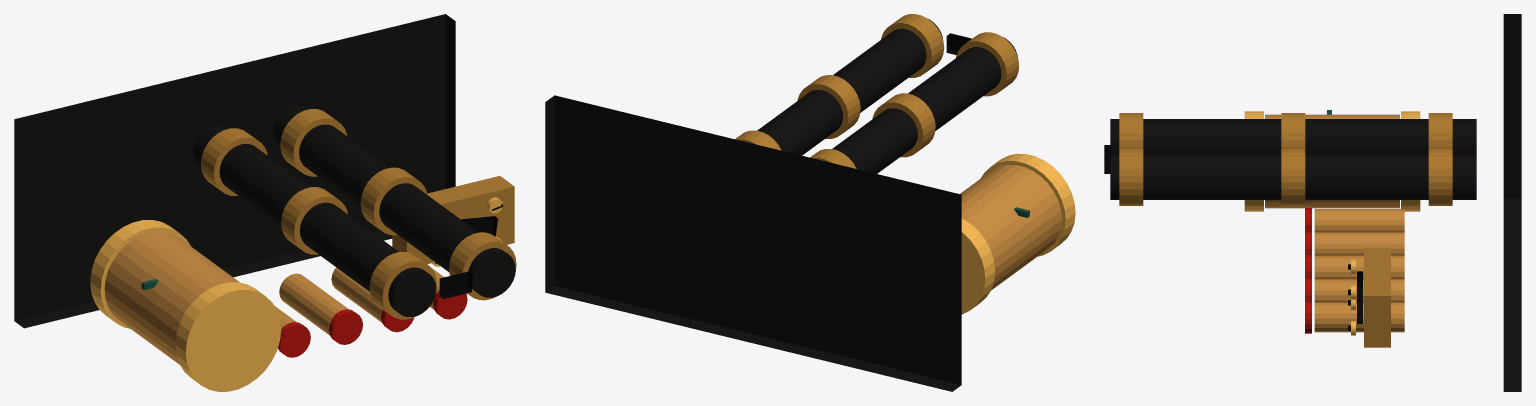
Rendered from WPB_007_ScattergunDisplayPieces_Staged.obj.
The picture shows the model from 3 angles, left to right: view 1: azimuth 30°, elevation 25°; view 2: azimuth 150°, elevation 25°; view 3: azimuth 270°, elevation 25°; orthographic projection. The views are drawn at different scales.
Visible parts, largest first — view 1: scatter_display_backer_plate, scatter_left_blackened_barrel, scatter_right_blackened_barrel, scatter_slug_canister_body, scatter_slug_canister_endcap_b, scatter_stock_socket_plate, scatter_slug_canister_endcap_a, scatter_shell_row_case_2, scatter_twin_barrel_brass_collar_0p635_l, scatter_twin_barrel_brass_collar_0p365_r, scatter_twin_barrel_brass_collar_0p120_r, scatter_twin_barrel_brass_collar_0p365_l (+8 smaller); view 2: scatter_display_backer_plate, scatter_slug_canister_body, scatter_right_blackened_barrel, scatter_left_blackened_barrel, scatter_slug_canister_endcap_a, scatter_slug_canister_endcap_b, scatter_twin_barrel_brass_collar_0p365_l, scatter_twin_barrel_brass_collar_0p635_l, scatter_twin_barrel_brass_collar_0p365_r, scatter_twin_barrel_brass_collar_0p635_r, scatter_twin_barrel_brass_collar_0p120_r, scatter_twin_barrel_brass_collar_0p120_l; view 3: scatter_right_blackened_barrel, scatter_left_blackened_barrel, scatter_display_backer_plate, scatter_stock_socket_plate, scatter_shell_row_case_0, scatter_shell_row_case_1, scatter_shell_row_case_4, scatter_slug_canister_body, scatter_shell_row_case_2, scatter_twin_barrel_brass_collar_0p120_r, scatter_twin_barrel_brass_collar_0p365_r, scatter_twin_barrel_brass_collar_0p635_r (+6 smaller).
Boxes of the visible parts, box(x1,y1,x2,y2) form: scatter_display_backer_plate: box(14, 14, 455, 328); scatter_left_blackened_barrel: box(193, 124, 436, 316); scatter_right_blackened_barrel: box(273, 105, 515, 297); scatter_slug_canister_body: box(104, 231, 239, 364); scatter_slug_canister_endcap_b: box(175, 282, 281, 391); scatter_stock_socket_plate: box(392, 176, 514, 264); scatter_slug_canister_endcap_a: box(90, 220, 190, 328); scatter_shell_row_case_2: box(279, 273, 348, 335); scatter_twin_barrel_brass_collar_0p635_l: box(369, 251, 436, 319); scatter_twin_barrel_brass_collar_0p365_r: box(360, 167, 427, 235); scatter_twin_barrel_brass_collar_0p120_r: box(280, 109, 347, 176); scatter_twin_barrel_brass_collar_0p365_l: box(281, 187, 347, 254); scatter_display_backer_plate: box(545, 95, 961, 391); scatter_slug_canister_body: box(960, 164, 1061, 290); scatter_right_blackened_barrel: box(757, 19, 942, 155); scatter_left_blackened_barrel: box(832, 37, 1017, 173); scatter_slug_canister_endcap_a: box(961, 218, 995, 314); scatter_slug_canister_endcap_b: box(980, 153, 1075, 256); scatter_twin_barrel_brass_collar_0p365_l: box(872, 93, 935, 157); scatter_twin_barrel_brass_collar_0p635_l: box(956, 32, 1018, 96); scatter_twin_barrel_brass_collar_0p365_r: box(797, 75, 860, 138); scatter_twin_barrel_brass_collar_0p635_r: box(881, 14, 944, 77); scatter_twin_barrel_brass_collar_0p120_r: box(735, 130, 781, 150); scatter_twin_barrel_brass_collar_0p120_l: box(810, 149, 856, 168); scatter_right_blackened_barrel: box(1110, 154, 1476, 199); scatter_left_blackened_barrel: box(1110, 119, 1476, 154); scatter_display_backer_plate: box(1503, 14, 1521, 391); scatter_stock_socket_plate: box(1364, 247, 1390, 347); scatter_shell_row_case_0: box(1314, 209, 1404, 232); scatter_shell_row_case_1: box(1314, 232, 1404, 255); scatter_shell_row_case_4: box(1314, 302, 1404, 332); scatter_slug_canister_body: box(1265, 114, 1399, 208); scatter_shell_row_case_2: box(1314, 255, 1404, 279); scatter_twin_barrel_brass_collar_0p120_r: box(1428, 148, 1452, 205); scatter_twin_barrel_brass_collar_0p365_r: box(1281, 148, 1305, 205); scatter_twin_barrel_brass_collar_0p635_r: box(1119, 148, 1143, 205).
Bounding box in the file's own units: 0.76 × 0.34 × 0.695.
